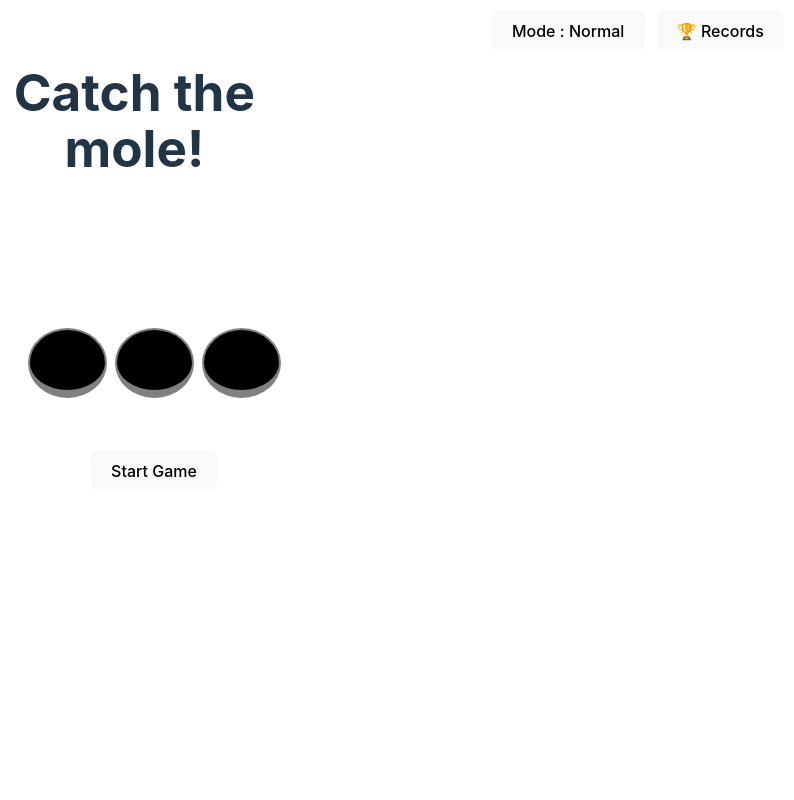
Scenario: App Component › shows score records when Records button is clicked
The image size is (794, 800).
Click the button "🏆 Records": (720, 31) [656, 10, 784, 51]
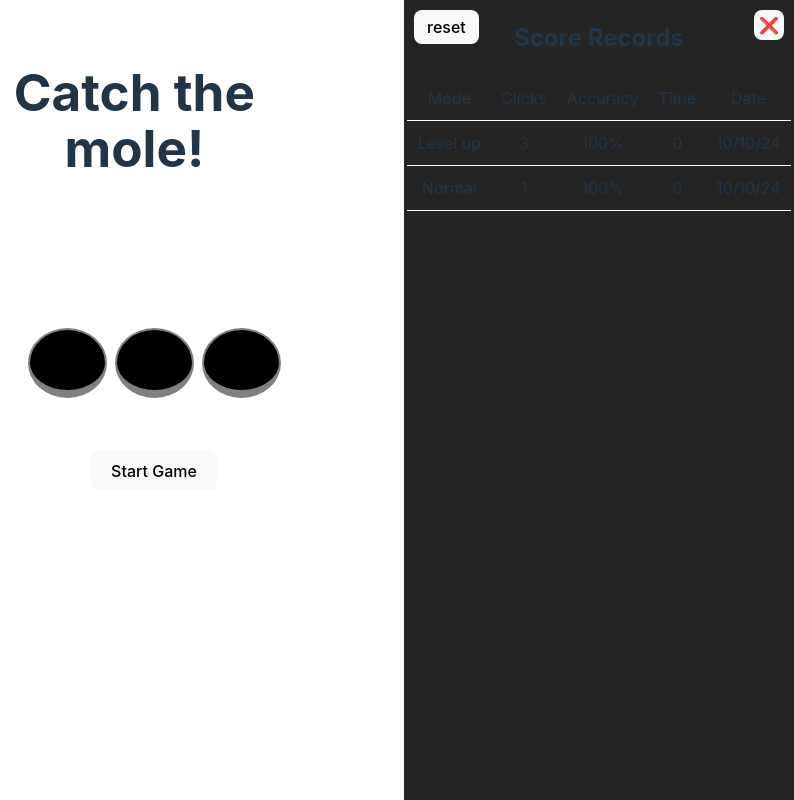
Now the heading "Score Records" is shown, box [514, 23, 684, 52]
